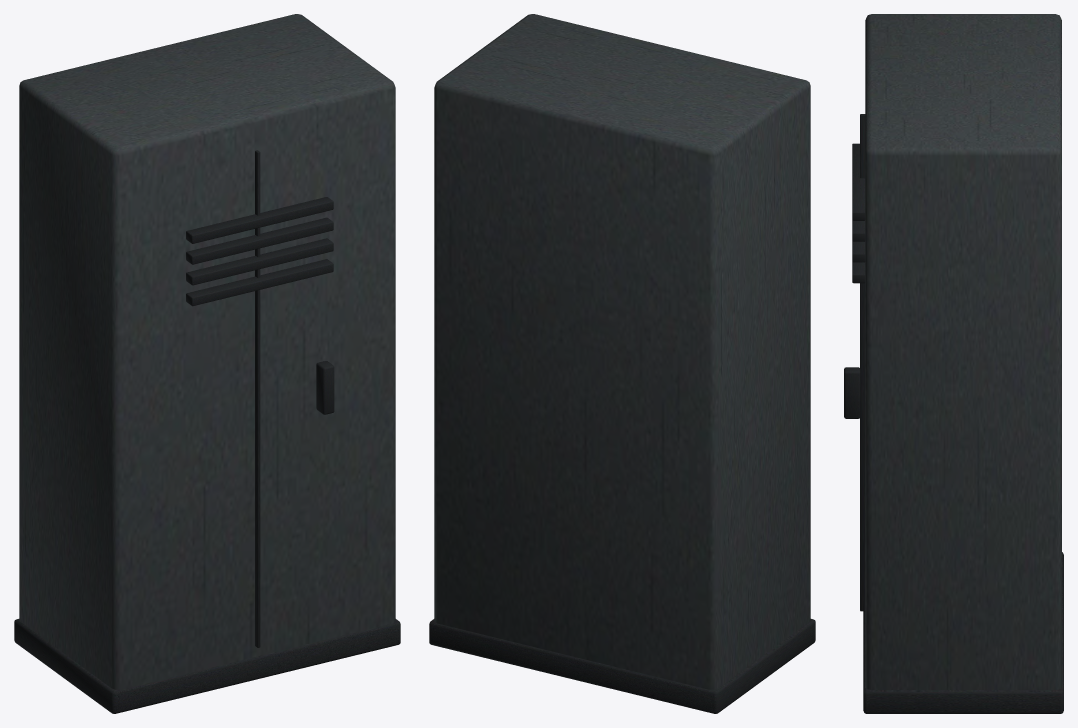
The model's file is prop_locker.glb.
3 views of the same model, side by side, from view 1: azimuth 30°, elevation 25°; view 2: azimuth 150°, elevation 25°; view 3: azimuth 270°, elevation 25° (orthographic).
Visible parts, largest first — view 1: PropMesh; view 2: PropMesh; view 3: PropMesh.
Part boxes in pixels (x1=…): PropMesh: x1=14, y1=14, x2=400, y2=713; PropMesh: x1=429, y1=14, x2=815, y2=713; PropMesh: x1=844, y1=14, x2=1063, y2=713.
Bounding box in the file's own units: 1.02 × 1.9 × 0.671.
2 materials, 2 textured.
